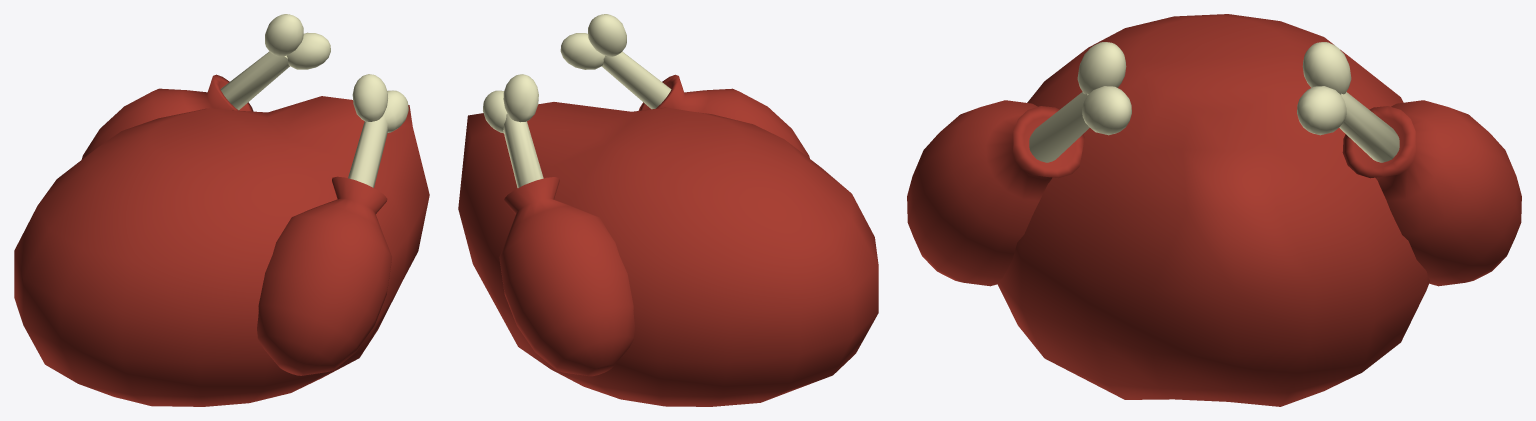
The model's file is chiken.fbx.
The picture shows the model from 3 angles, left to right: view 1: azimuth 30°, elevation 25°; view 2: azimuth 150°, elevation 25°; view 3: azimuth 270°, elevation 25°; orthographic projection. The views are drawn at different scales.
Parts seen in each view (by area): view 1: Cube, Cylinder; view 2: Cube, Cylinder; view 3: Cube, Cylinder.
Boxes of the visible parts, x1,y1,x2,y2 form: Cube: [14, 74, 429, 406]; Cylinder: [220, 14, 408, 187]; Cube: [458, 74, 878, 406]; Cylinder: [483, 14, 671, 187]; Cube: [907, 14, 1521, 406]; Cylinder: [1029, 42, 1399, 162].
Size of the model in its own units: 224 by 160 by 233.
